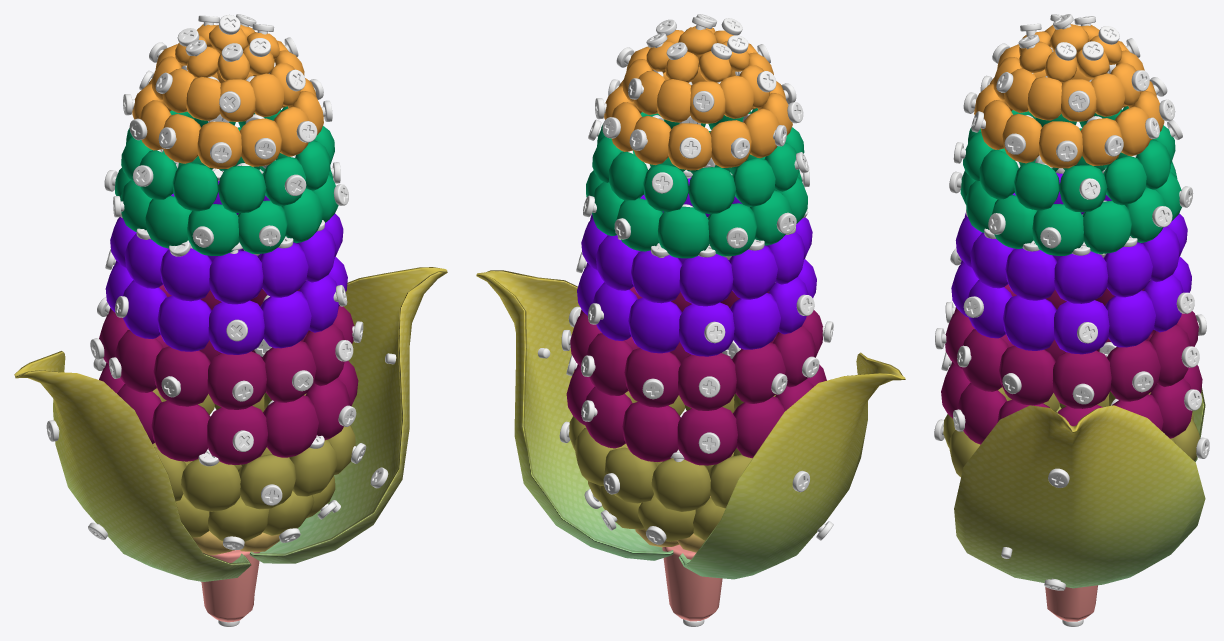
File: lvl_61.fbx
3 views of the same model, side by side, from view 1: azimuth 30°, elevation 25°; view 2: azimuth 150°, elevation 25°; view 3: azimuth 270°, elevation 25° (orthographic).
Parts seen in each view (by area): view 1: Cube_L2, Cube_L2_2, Cube_L1_11, Cube_L1_39, Cube_L1_74, Cube_L1_40, Cube_L2_1, Cube_L1_25, Cube_L1_14, Cube_L1_18, Cube_L1_43, Cube_L1_72 (+47 smaller); view 2: Cube_L2, Cube_L2_2, Cube_L2_1, Cube_L1_59, Cube_L1_27, Cube_L1_42, Cube_L1_30, Cube_L1_61, Cube_L1_60, Cube_L1_35, Cube_L1_7, Cube_L1_31 (+47 smaller); view 3: Cube_L2_2, Cube_L1_131, Cube_L1_126, Cube_L1_123, Cube_L1_127, Cube_L1_115, Cube_L1_130, Cube_L1_121, Cube_L1_119, Cube_L1_120, Cube_L1_113, Cube_L1_103 (+48 smaller).
Boxes of the visible parts, x1,y1,x2,y2 form: Cube_L2: [14, 351, 251, 581]; Cube_L2_2: [249, 267, 447, 563]; Cube_L1_11: [151, 401, 210, 461]; Cube_L1_39: [207, 406, 267, 464]; Cube_L1_74: [263, 395, 318, 457]; Cube_L1_40: [207, 351, 266, 409]; Cube_L2_1: [201, 550, 259, 622]; Cube_L1_25: [181, 459, 240, 511]; Cube_L1_14: [153, 346, 210, 406]; Cube_L1_18: [157, 296, 211, 351]; Cube_L1_43: [209, 251, 263, 304]; Cube_L1_72: [260, 291, 311, 348]; Cube_L2: [679, 352, 905, 579]; Cube_L2_2: [476, 270, 673, 560]; Cube_L2_1: [662, 544, 722, 621]; Cube_L1_59: [622, 402, 680, 461]; Cube_L1_27: [677, 407, 737, 465]; Cube_L1_42: [651, 458, 710, 511]; Cube_L1_30: [678, 353, 736, 410]; Cube_L1_61: [628, 298, 682, 353]; Cube_L1_60: [624, 348, 681, 407]; Cube_L1_35: [679, 254, 733, 306]; Cube_L1_7: [732, 342, 785, 403]; Cube_L1_31: [679, 302, 734, 356]; Cube_L2_2: [954, 405, 1205, 588]; Cube_L1_131: [1052, 350, 1111, 408]; Cube_L1_126: [999, 345, 1055, 405]; Cube_L1_123: [1003, 295, 1056, 350]; Cube_L1_127: [1054, 251, 1108, 303]; Cube_L1_115: [1105, 290, 1155, 347]; Cube_L1_130: [1054, 300, 1109, 354]; Cube_L1_121: [1005, 248, 1057, 300]; Cube_L1_119: [1106, 340, 1160, 401]; Cube_L1_120: [1082, 200, 1131, 253]; Cube_L1_113: [1103, 242, 1152, 297]; Cube_L1_103: [962, 329, 1008, 391].
Bounding box in the file's own units: 6.26 × 8.44 × 3.48.
